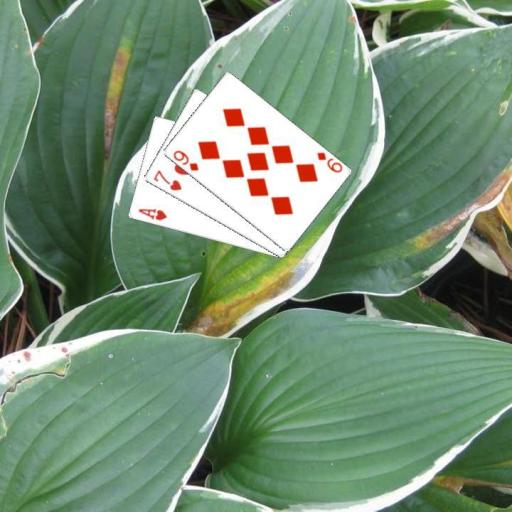7H: (150, 167, 183, 192)
9D: (169, 147, 200, 173), (314, 149, 344, 174)
AH: (135, 205, 169, 222)
